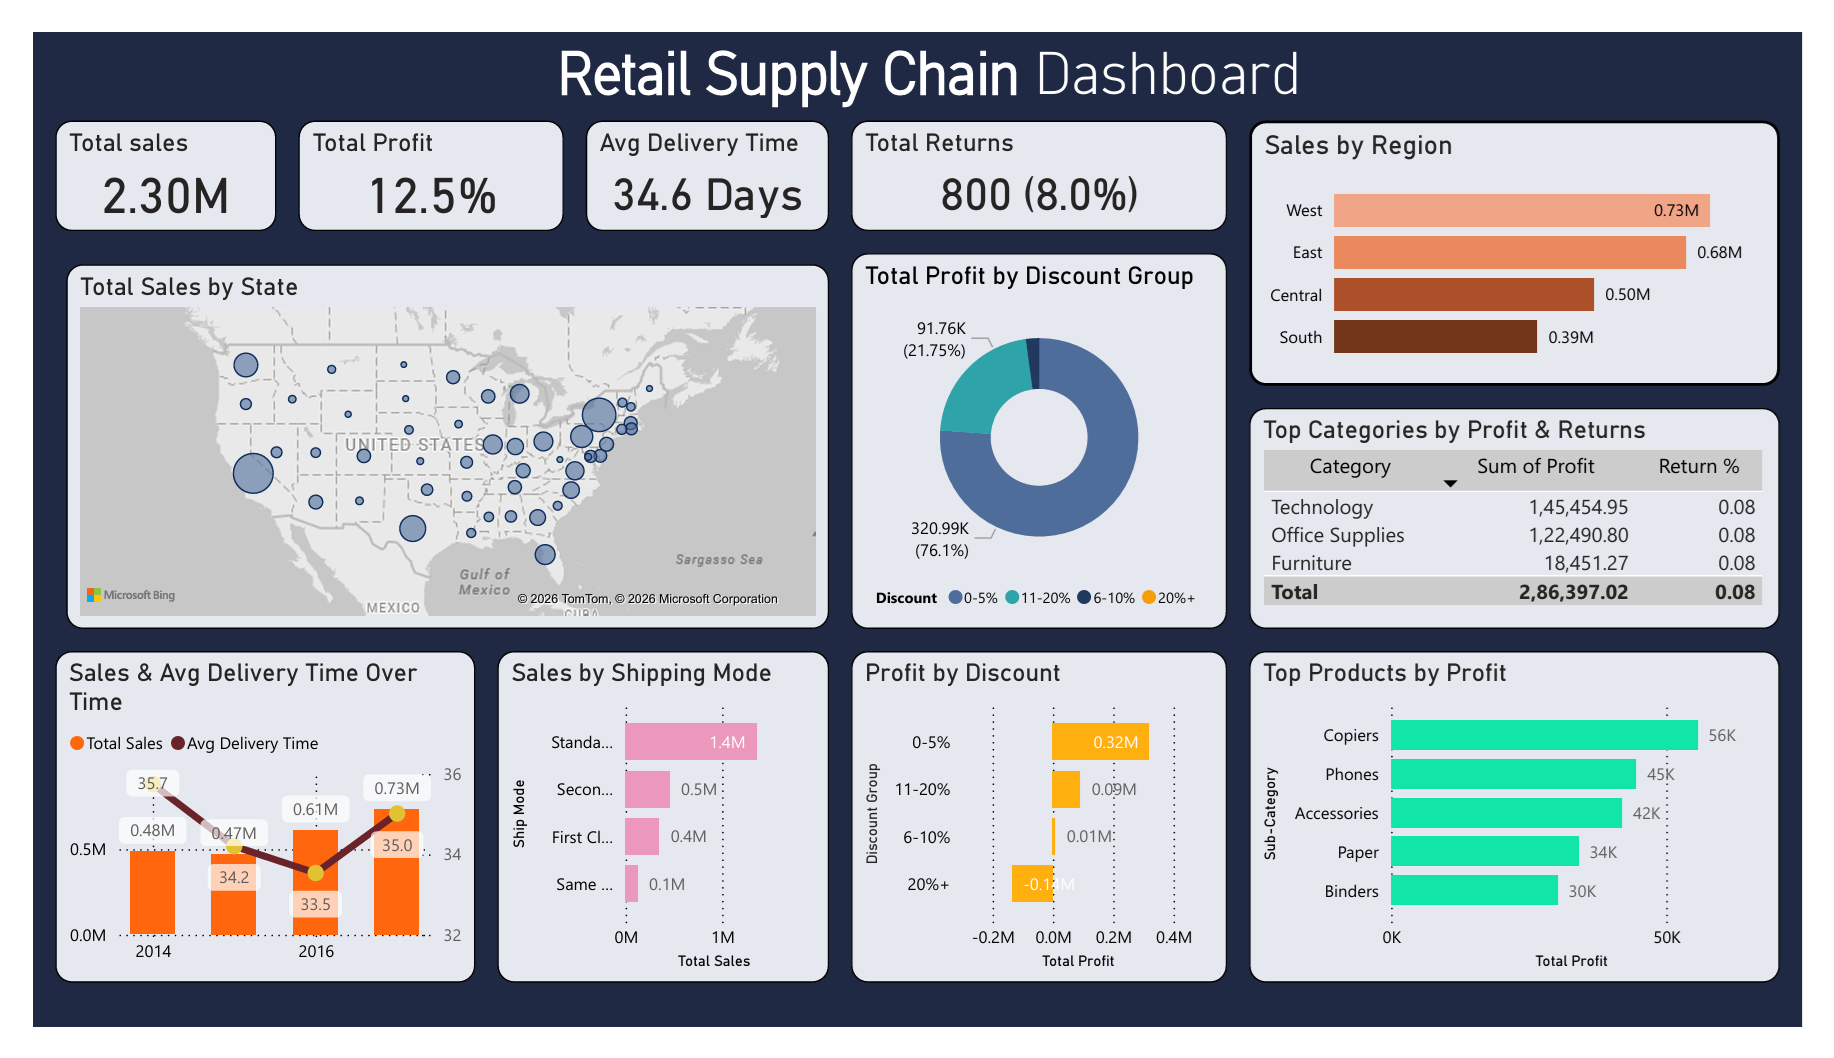

The dashboard page shown, as its layout file describes it:
{"tool":"powerbi","page":{"name":"Page 1","canvas":[1280,720],"ordinal":0},"visuals":[{"type":"textbox","box":[0,0,1264,64],"z":0},{"type":"card","title":"Total sales","fields":{"Values":["Retails Order Full Dataset.Total Sales"]},"box":[16,64,160,80],"z":1000},{"type":"card","title":"Total Profit","fields":{"Values":["Retails Order Full Dataset.Profit Margin %"]},"box":[192,64,192,80],"z":2000},{"type":"card","title":"Avg Delivery Time","fields":{"Values":["Retails Order Full Dataset.Avg Delivery Time (Text)"]},"box":[400,64,176,80],"z":3000},{"type":"card","title":"Total Returns","fields":{"Values":["Retails Order Full Dataset.Total Returns Display"]},"box":[592,64,272,80],"z":4000},{"type":"clusteredBarChart","title":"Sales by Region","fields":{"Category":["Retails Order Full Dataset.Region"],"Y":["Retails Order Full Dataset.Total Sales"]},"box":[880,64,384,192],"z":5000},{"type":"tableEx","title":"Top Categories by Profit & Returns","fields":{"Values":["Retails Order Full Dataset.Category","Sum(Retails Order Full Dataset.Profit)","Retails Order Full Dataset.Return %"]},"box":[880,272,384,160],"z":6000},{"type":"donutChart","fields":{"Category":["Retails Order Full Dataset.Discount Group"],"Y":["Retails Order Full Dataset.Total Profit"]},"box":[592,160,272,272],"z":7000},{"type":"clusteredBarChart","title":"Top Products by Profit","fields":{"Category":["Retails Order Full Dataset.Sub-Category"],"Y":["Retails Order Full Dataset.Total Profit"]},"box":[880,448,384,240],"z":8000},{"type":"clusteredBarChart","title":"Profit by Discount","fields":{"Category":["Retails Order Full Dataset.Discount Group"],"Y":["Retails Order Full Dataset.Total Profit"]},"box":[592,448,272,240],"z":9000},{"type":"barChart","title":"Sales by Shipping Mode","fields":{"Category":["Retails Order Full Dataset.Ship Mode"],"Y":["Retails Order Full Dataset.Total Sales"]},"box":[336,448,240,240],"z":10000},{"type":"lineClusteredColumnComboChart","title":"Sales & Avg Delivery Time Over Time","fields":{"Category":["Retails Order Full Dataset.Order Date.Variation.Date Hierarchy.Year","Retails Order Full Dataset.Order Date.Variation.Date Hierarchy.Quarter","Retails Order Full Dataset.Order Date.Variation.Date Hierarchy.Month","Retails Order Full Dataset.Order Date.Variation.Date Hierarchy.Day"],"Y":["Retails Order Full Dataset.Total Sales"],"Y2":["Retails Order Full Dataset.Avg Delivery Time"]},"box":[16,448,304,240],"z":11000},{"type":"map","fields":{"Category":["Retails Order Full Dataset.State"],"Size":["Retails Order Full Dataset.Total Sales"]},"box":[24,168,552,264],"z":12000}]}

Visuals, with their boxes in screenshot pixels (x1, y1, x2, y2), scaled from the page's 1280x720 canvas onto the 1834x1058 screenshot:
textbox: bbox=(0, 0, 1811, 94)
"Total sales" card: bbox=(23, 94, 252, 212)
"Total Profit" card: bbox=(275, 94, 550, 212)
"Avg Delivery Time" card: bbox=(573, 94, 825, 212)
"Total Returns" card: bbox=(848, 94, 1238, 212)
"Sales by Region" clusteredBarChart: bbox=(1261, 94, 1811, 376)
"Top Categories by Profit & Returns" tableEx: bbox=(1261, 400, 1811, 635)
donutChart - Retails Order Full Dataset.Discount Group x Retails Order Full Dataset.Total Profit: bbox=(848, 235, 1238, 635)
"Top Products by Profit" clusteredBarChart: bbox=(1261, 658, 1811, 1011)
"Profit by Discount" clusteredBarChart: bbox=(848, 658, 1238, 1011)
"Sales by Shipping Mode" barChart: bbox=(481, 658, 825, 1011)
"Sales & Avg Delivery Time Over Time" lineClusteredColumnComboChart: bbox=(23, 658, 458, 1011)
map - Retails Order Full Dataset.State x Retails Order Full Dataset.Total Sales: bbox=(34, 247, 825, 635)
